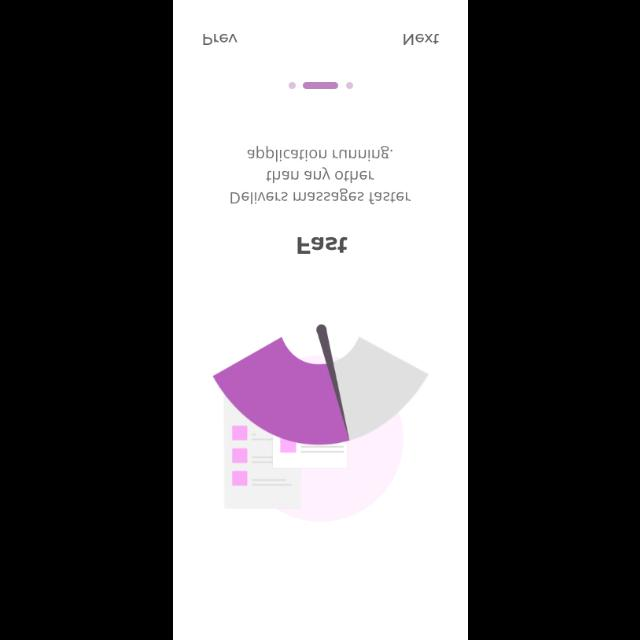image: (213, 323, 429, 521)
pageindicator: (287, 82, 353, 90)
text: (230, 146, 410, 204), (296, 236, 348, 254), (403, 33, 439, 45), (202, 33, 238, 45)
